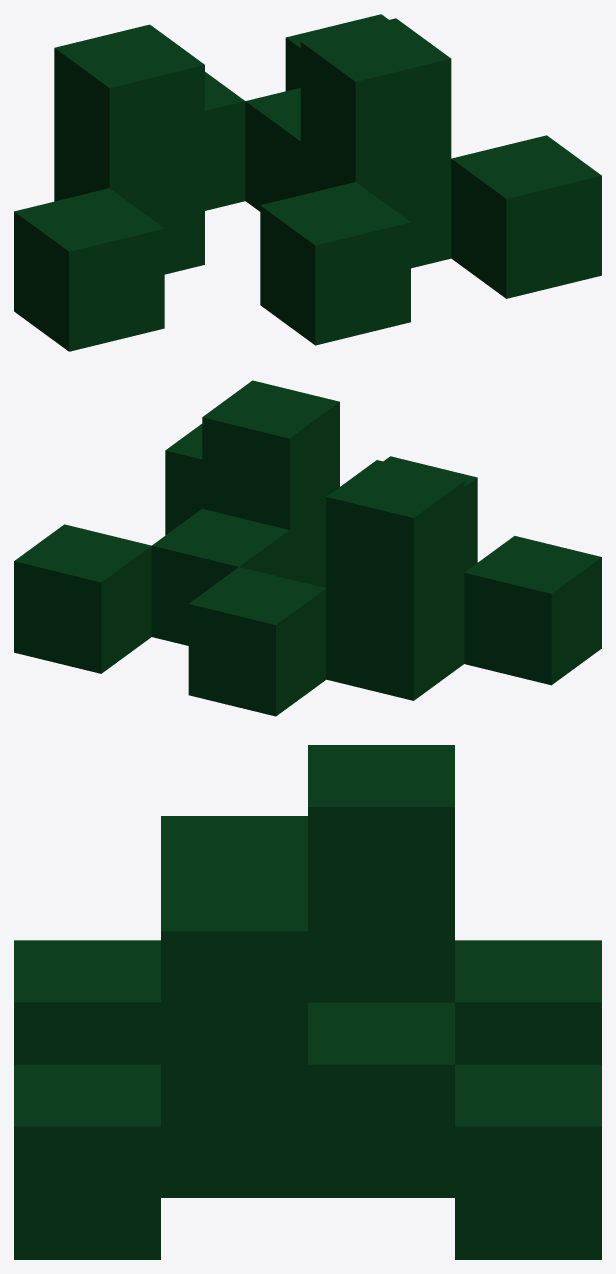
File: GrassPiece5.fbx
3 views of the same model, one above another, from view 1: azimuth 30°, elevation 25°; view 2: azimuth 150°, elevation 25°; view 3: azimuth 270°, elevation 25° (orthographic). The views are drawn at different scales.
Parts seen in each view (by area): view 1: Matrix_Piece0_0_0_Piece0_0_1; view 2: Matrix_Piece0_0_0_Piece0_0_1; view 3: Matrix_Piece0_0_0_Piece0_0_1.
Part boxes in pixels (x1,y1,x2,y2): Matrix_Piece0_0_0_Piece0_0_1: [14, 14, 601, 351]; Matrix_Piece0_0_0_Piece0_0_1: [14, 380, 601, 716]; Matrix_Piece0_0_0_Piece0_0_1: [14, 745, 601, 1259].
Bounding box in the file's own units: 5 × 2 × 4.
Materials: 1 (1 with a texture image).
